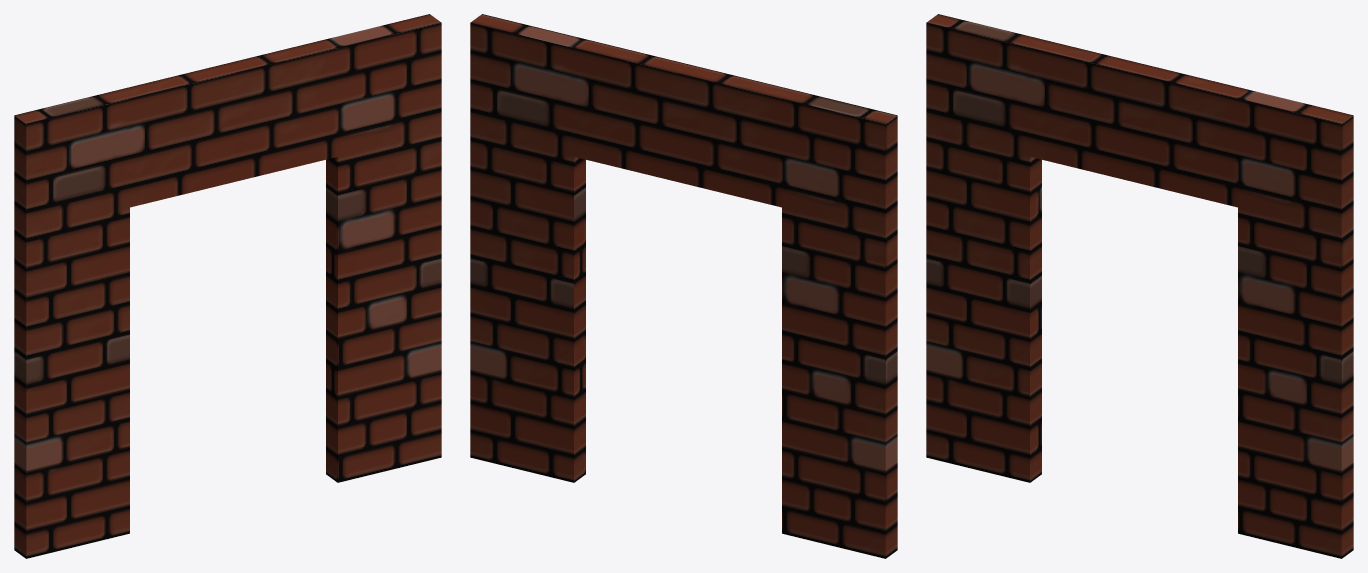
File: Wall_1_B.fbx
3 renders of one model, left to right at view 1: azimuth 30°, elevation 25°; view 2: azimuth 150°, elevation 25°; view 3: azimuth 330°, elevation 25°, orthographic.
Parts seen in each view (by area): view 1: pCube3; view 2: pCube3; view 3: pCube3.
Boxes of the visible parts, <box> form: pCube3: <box>14,14,441,558</box>; pCube3: <box>470,14,897,558</box>; pCube3: <box>926,14,1353,558</box>.
Bounding box in the file's own units: 4 × 4 × 0.2.
